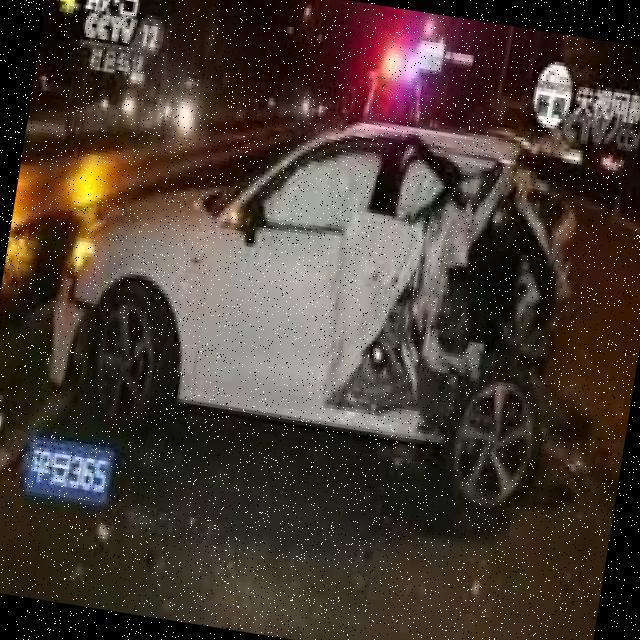accident: (288, 96, 639, 556)
